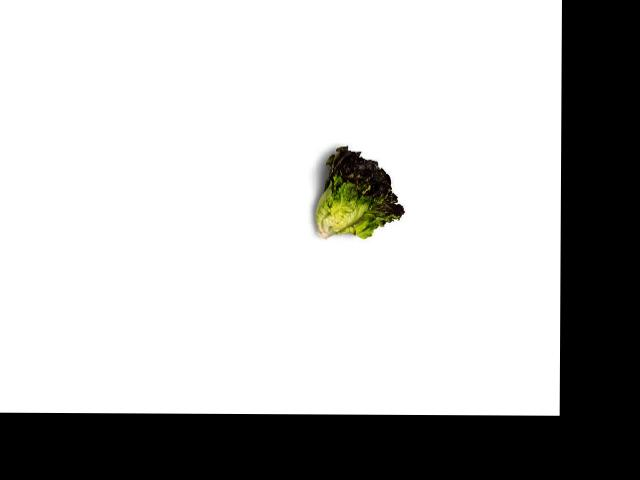lettuce: (314, 140, 403, 242)
